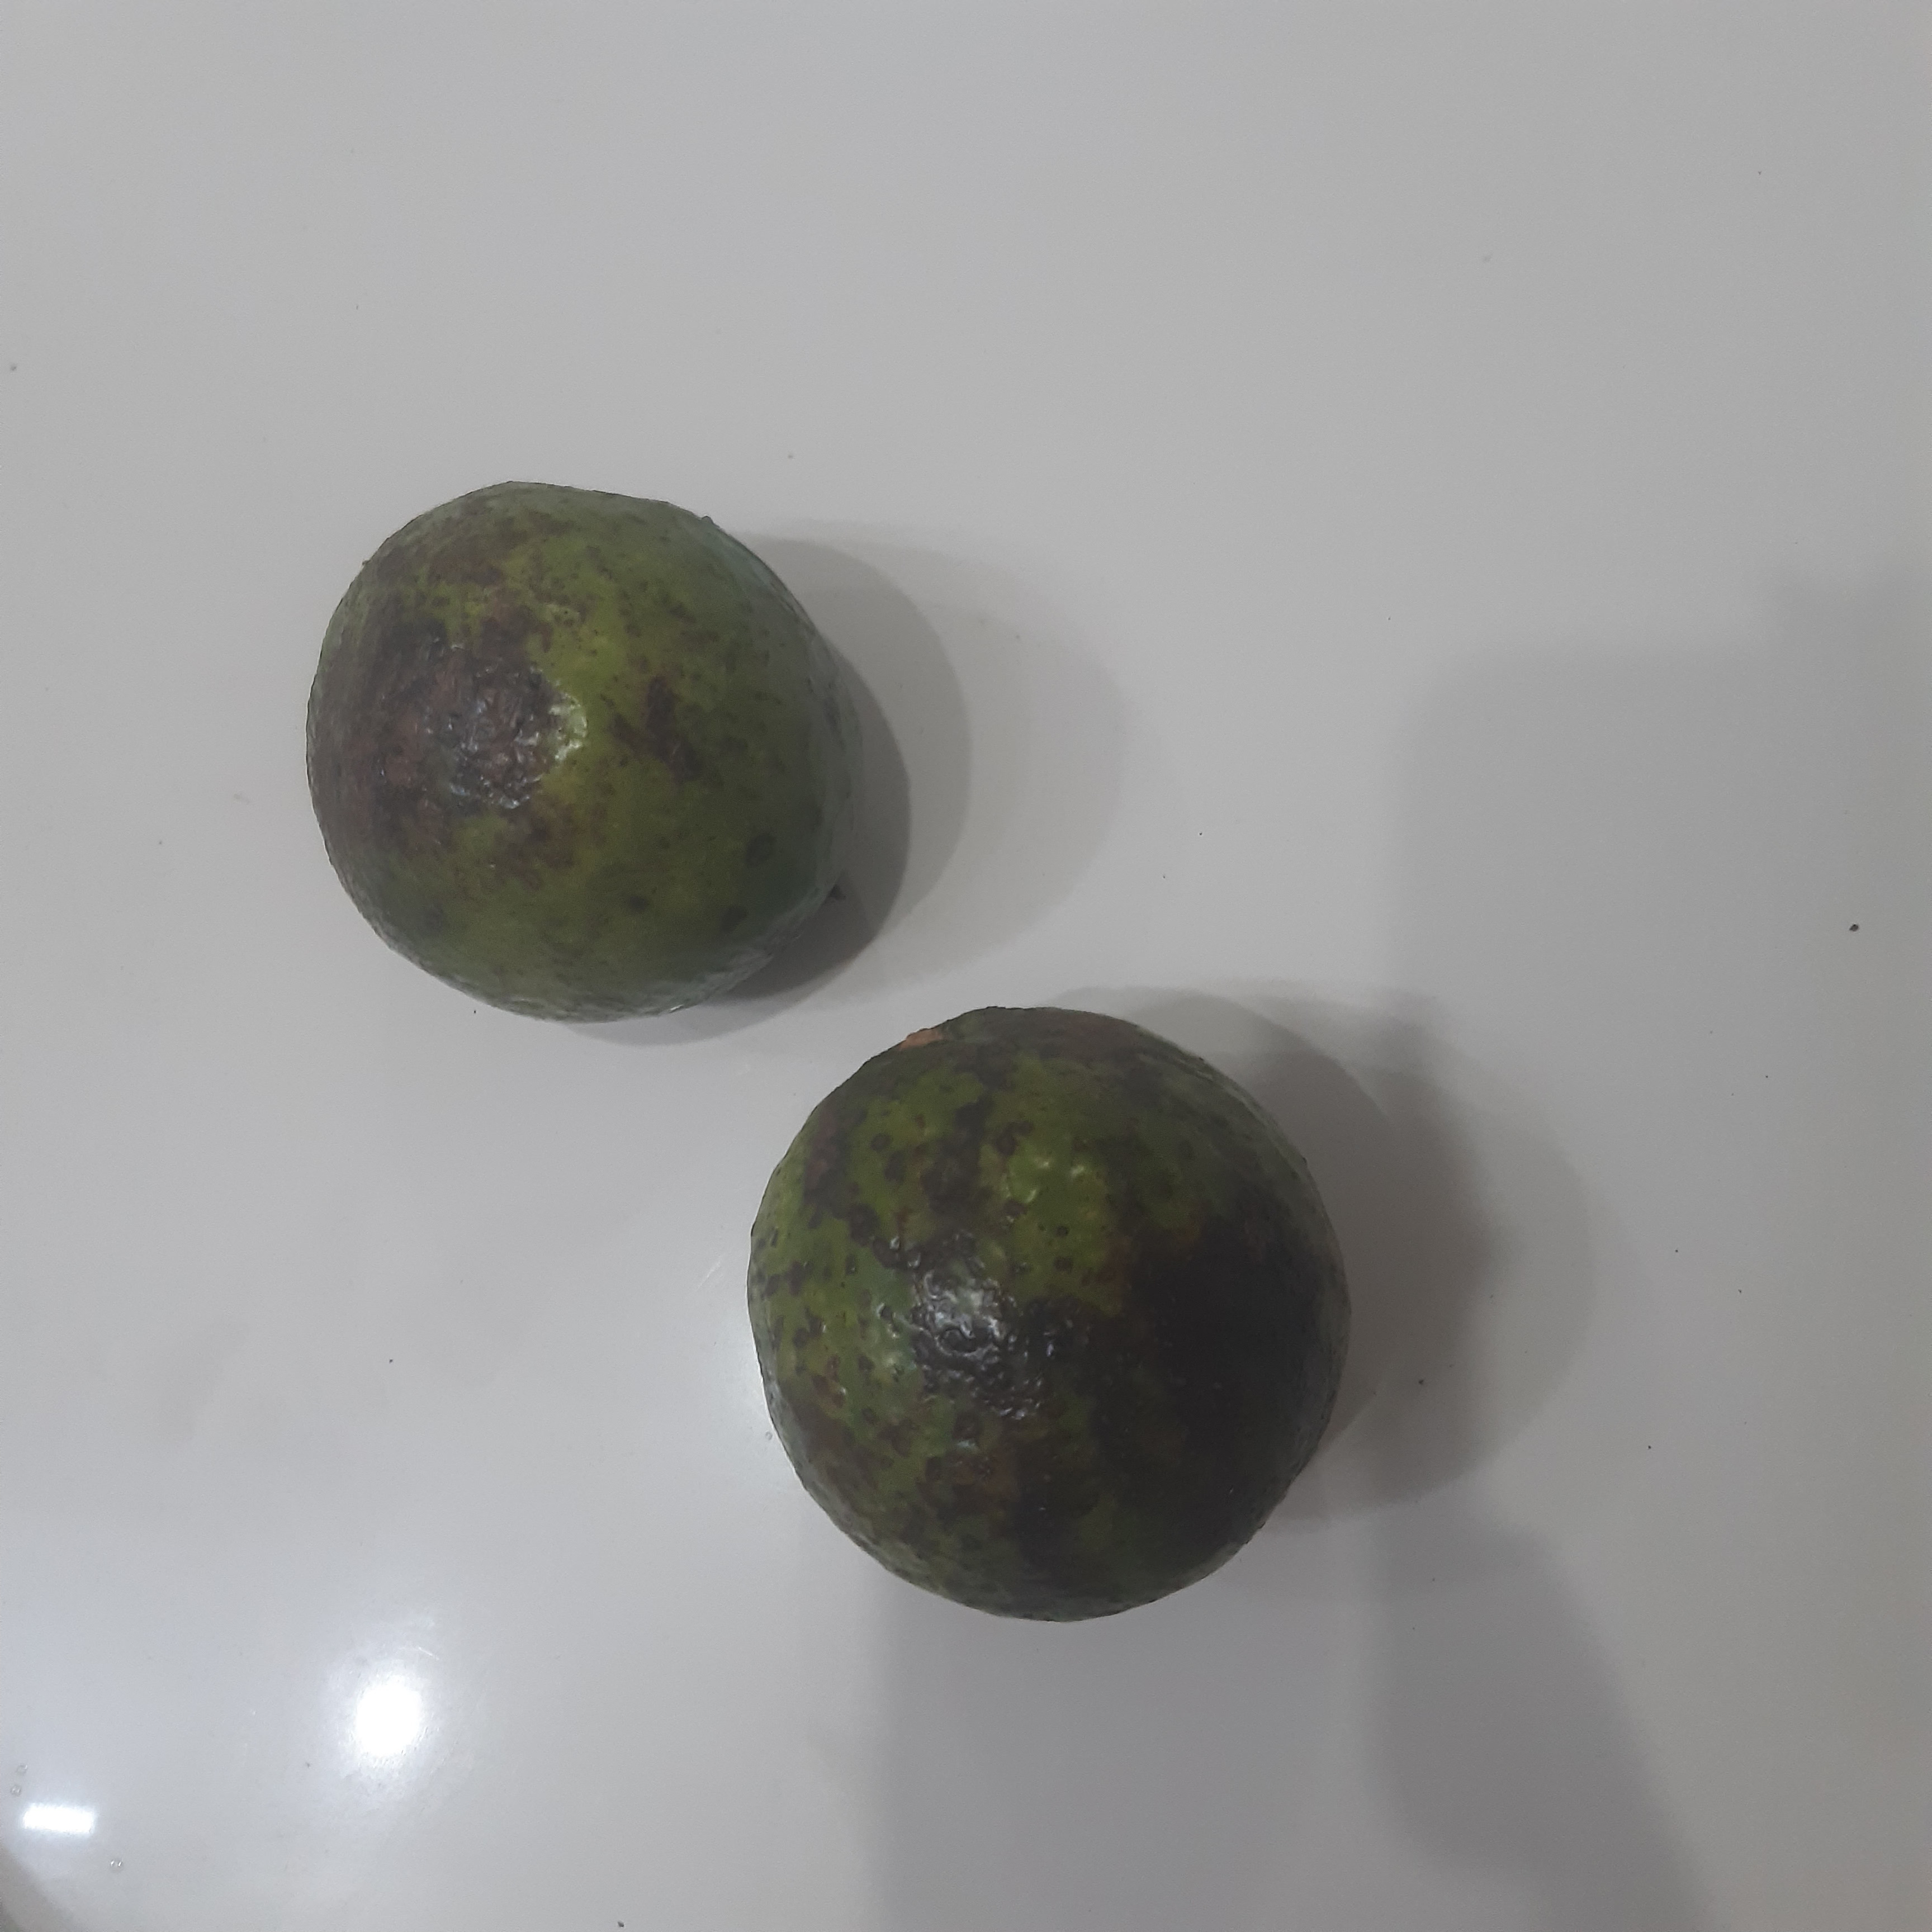Bo: (745, 1007, 1352, 1626), (304, 481, 851, 1028)
